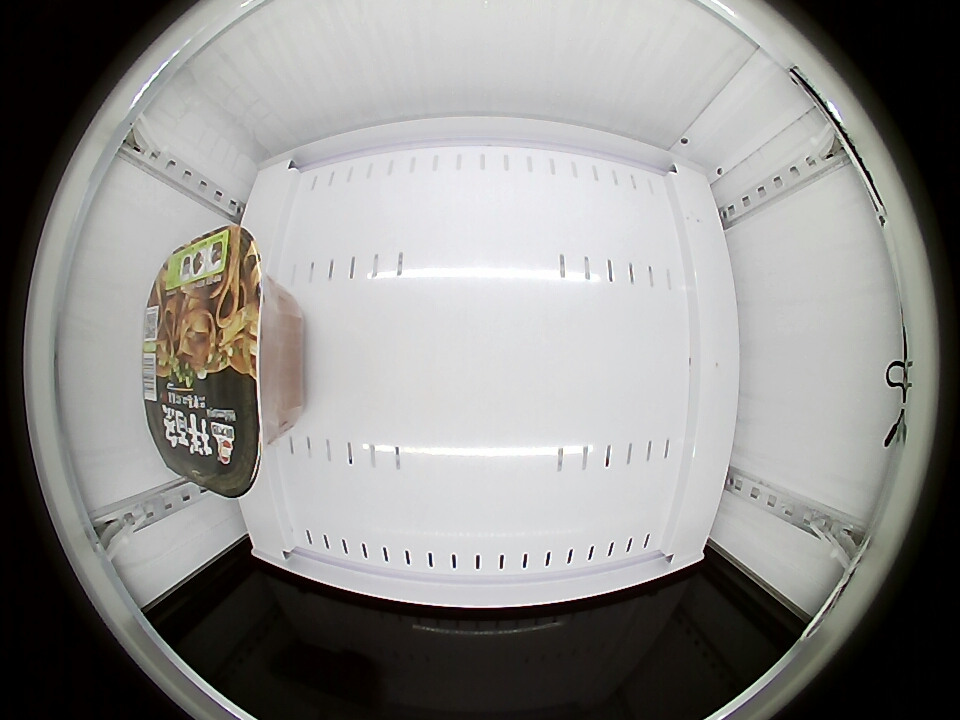gudasao: (143, 225, 280, 499)
